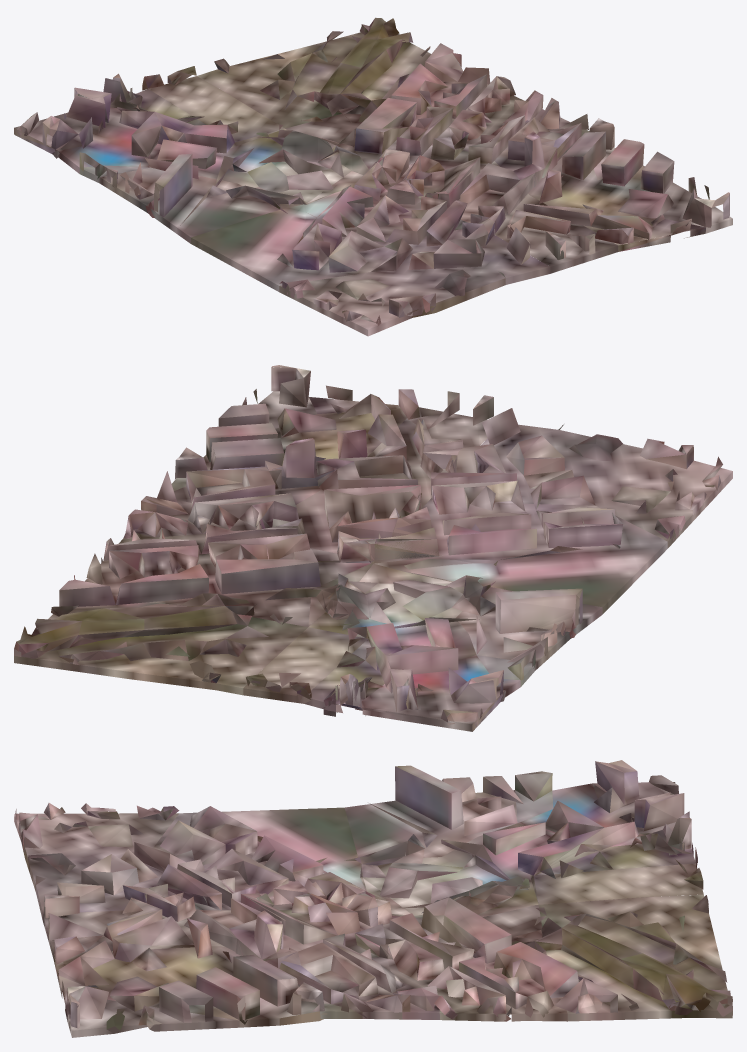
3 renders of one model, top to bottom at view 1: azimuth 30°, elevation 25°; view 2: azimuth 150°, elevation 25°; view 3: azimuth 270°, elevation 25°, orthographic. The views are drawn at different scales.
Visible parts, largest first — view 1: Mesh_0; view 2: Mesh_0; view 3: Mesh_0.
Part boxes in pixels (left/top/right/bottom): Mesh_0: left=14, top=17, right=732, bottom=336; Mesh_0: left=14, top=365, right=732, bottom=731; Mesh_0: left=14, top=760, right=732, bottom=1037.
Size of the model in its own units: 533 by 74.23 by 659.
2 materials, 2 textured.
